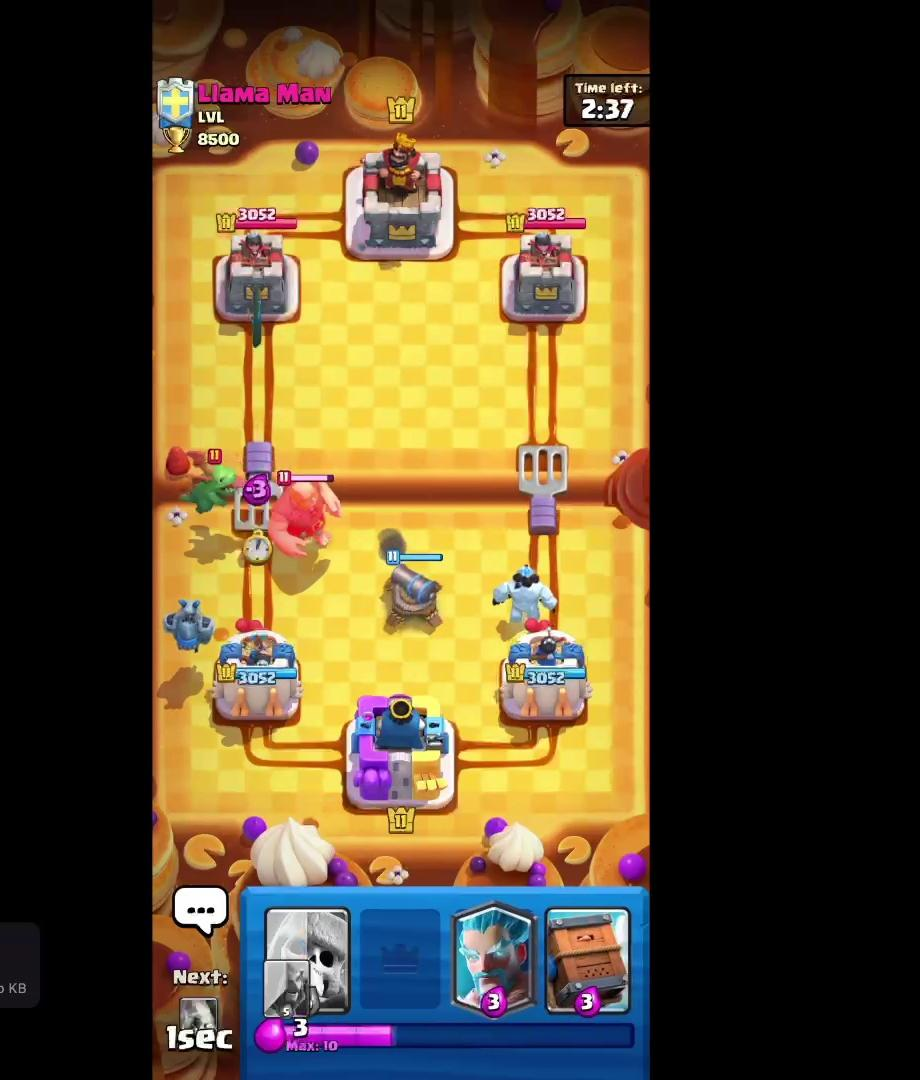Baby Dragon: (185, 444, 240, 521)
Giant: (271, 466, 342, 556)
